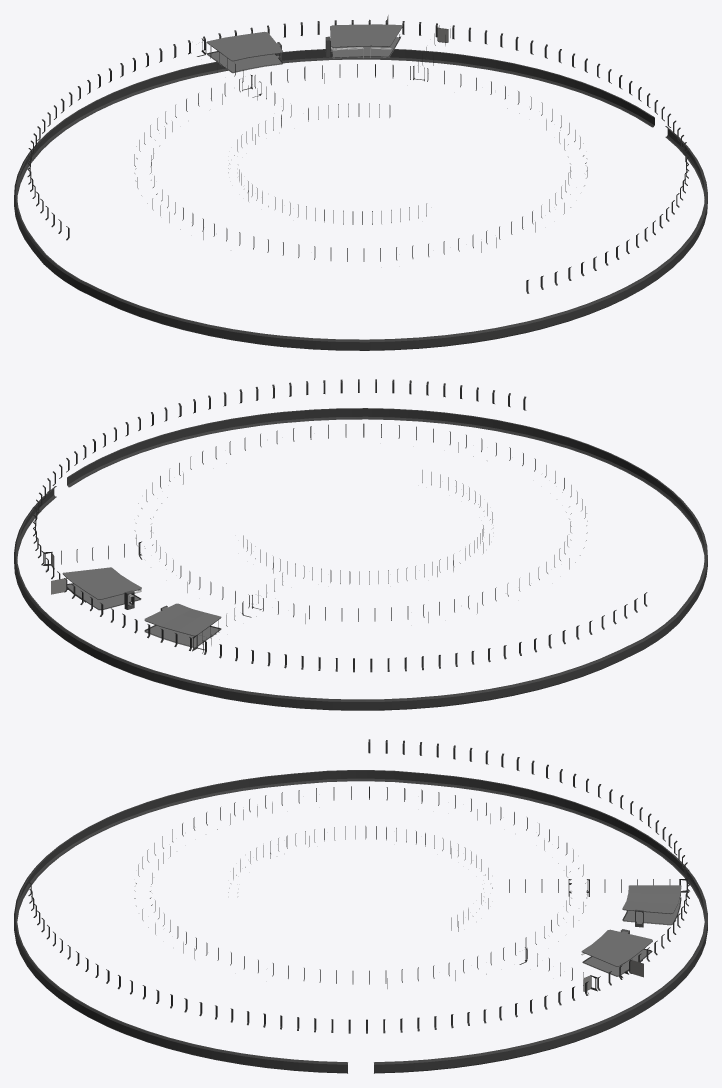
Rendered from prop_2F.fbx.
3 views of the same model, one above another, from view 1: azimuth 30°, elevation 25°; view 2: azimuth 150°, elevation 25°; view 3: azimuth 270°, elevation 25° (orthographic).
Visible parts, largest first — view 1: prop_2F2; view 2: prop_2F2; view 3: prop_2F2.
Boxes of the visible parts, x1=… form: prop_2F2: x1=14, y1=15, x2=707, y2=350; prop_2F2: x1=14, y1=379, x2=707, y2=710; prop_2F2: x1=14, y1=739, x2=707, y2=1073.
Size of the model in its own units: 13718 by 1005 by 13680.
Materials: 1 (1 with a texture image).
